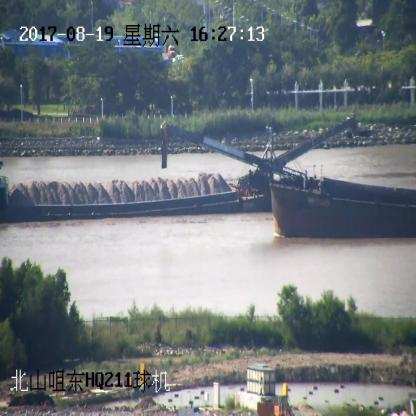Bulk Carrier: (161, 124, 415, 240)
